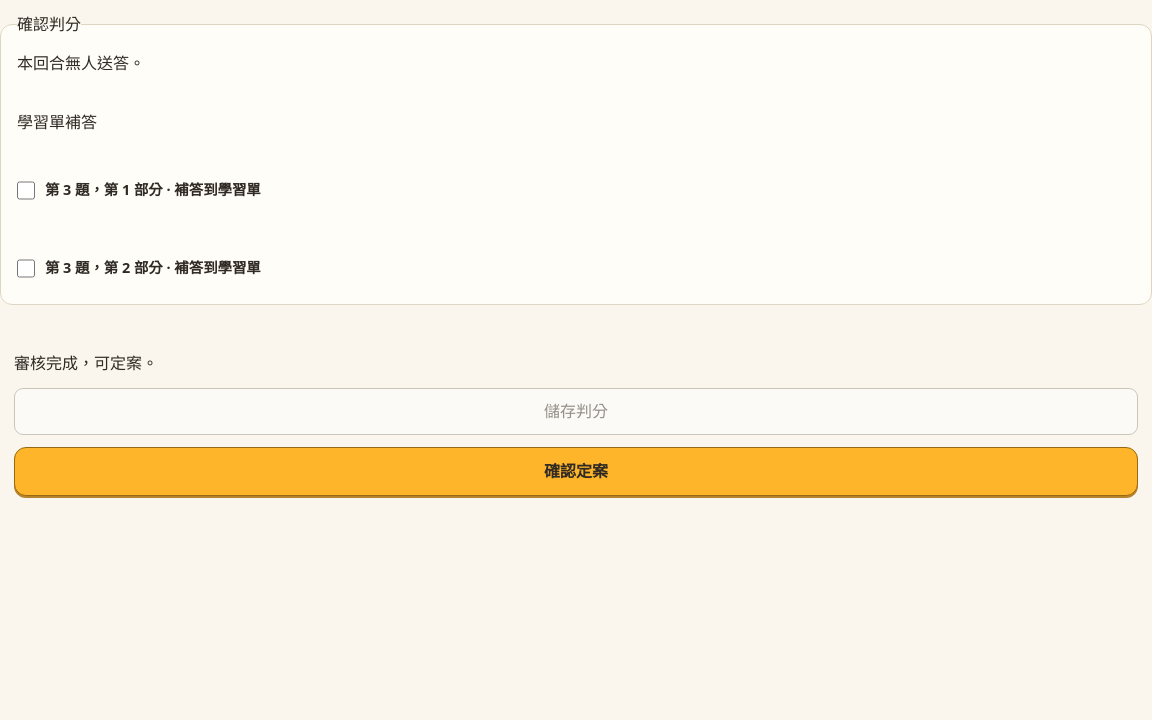
Test: 新版回合預設留白，僅把勾選的子題補答送入定案
This screenshot has width=1152, height=720.
Later steps or results of the test are not shown.
Click the checkbox labelled "第 3 題，第 2 部分 · 補答到學習單" at (26, 268), box [17,259,35,278]
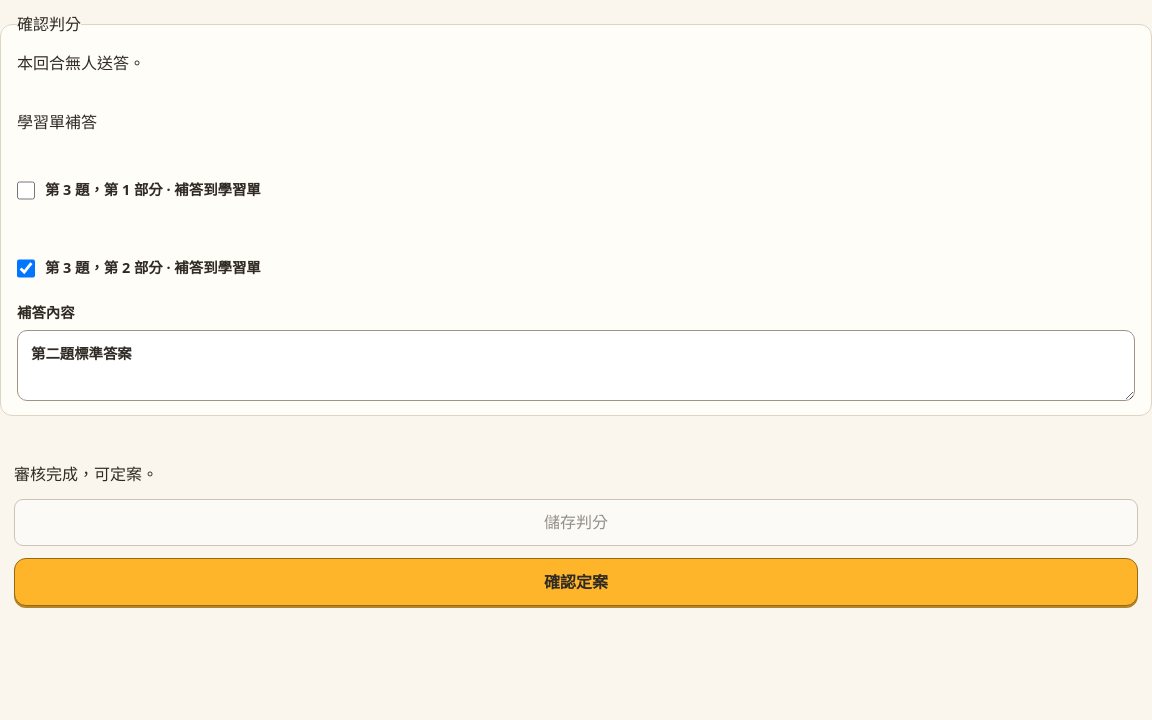
Result: the text box labelled "補答內容" holds "第二題標準答案" at [17,330,1135,401]
